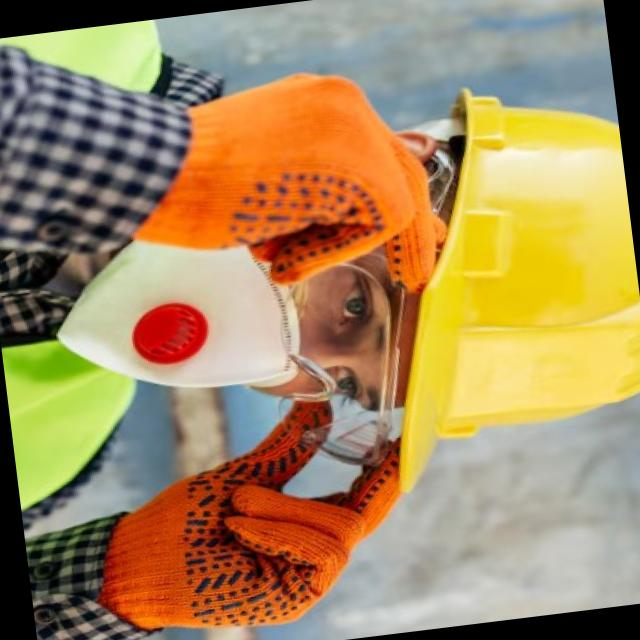gloved: (76, 381, 423, 640), (130, 55, 452, 308)
